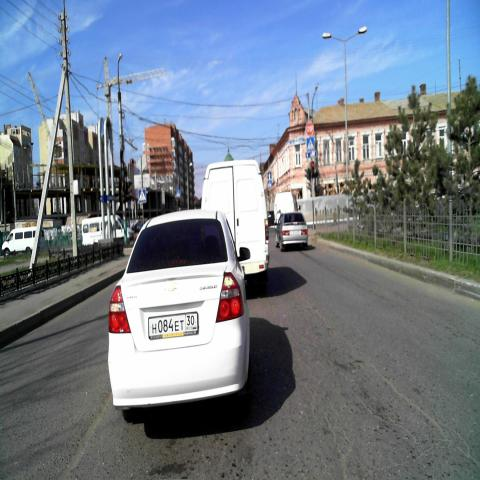2_5: (306, 118, 314, 134)
